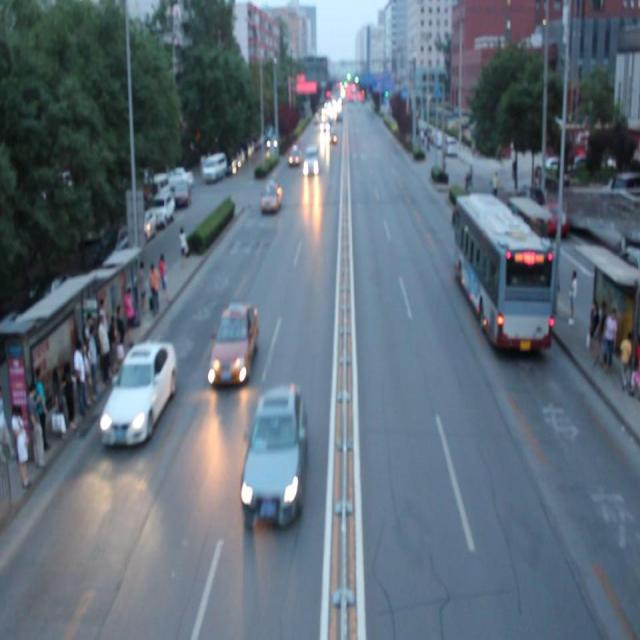car: (100, 330, 178, 455), (245, 388, 308, 535), (207, 296, 260, 392), (260, 178, 282, 221), (280, 136, 300, 173)
truck: (302, 146, 320, 182)
van: (452, 189, 552, 364)
